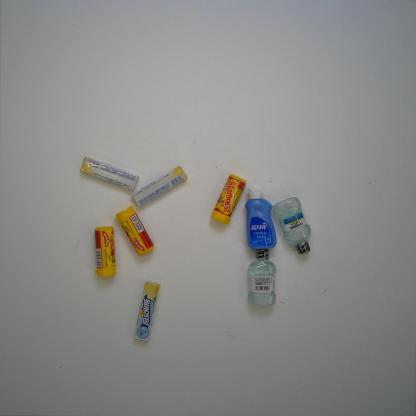Candy: (132, 165, 187, 208), (80, 156, 139, 191), (115, 206, 154, 256), (210, 174, 246, 224), (132, 281, 160, 342), (93, 226, 116, 278)
Personal Hygiene: (273, 196, 311, 255), (244, 187, 278, 251), (247, 248, 276, 306)
